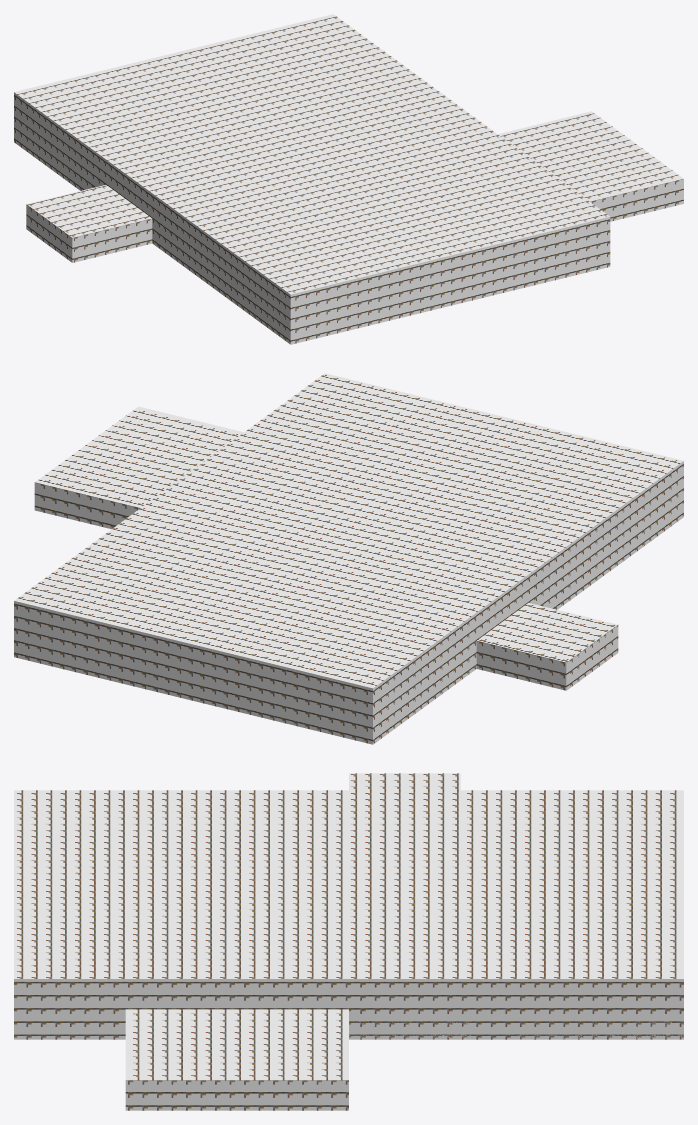
File: Supermarket_2_Medium.fbx
3 views of the same model, one above another, from view 1: azimuth 30°, elevation 25°; view 2: azimuth 150°, elevation 25°; view 3: azimuth 270°, elevation 25° (orthographic). The views are drawn at different scales.
Visible parts, largest first — view 1: Cube; view 2: Cube; view 3: Cube, Cube.002.
Part boxes in pixels (<box>): Cube: <box>14,14,683,344</box>; Cube: <box>14,373,683,744</box>; Cube: <box>14,773,683,1110</box>; Cube.002: <box>349,1017,683,1039</box>.
Size of the model in its own units: 6500 by 600 by 6000.
